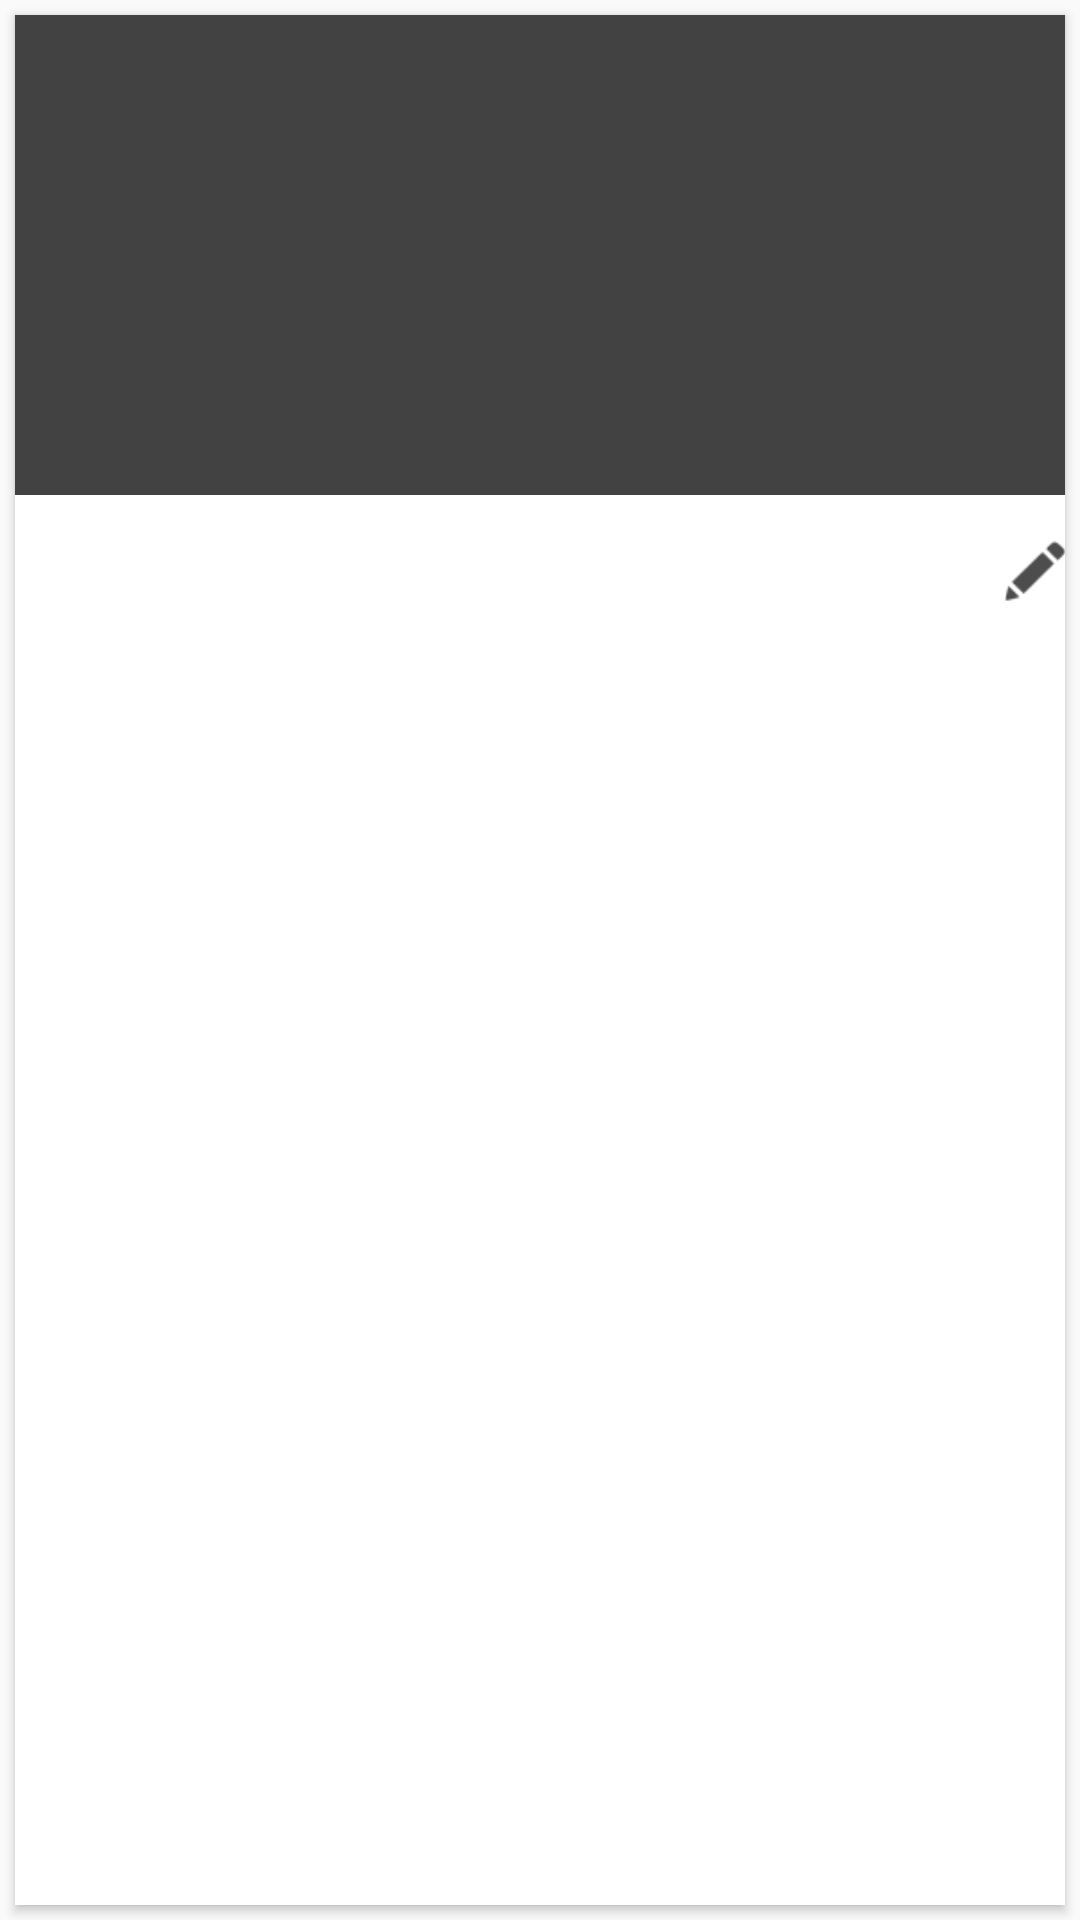

Screen size 1080*1920. Icon name, then its center in pixels as (x,y):
edit: (1030,576)
